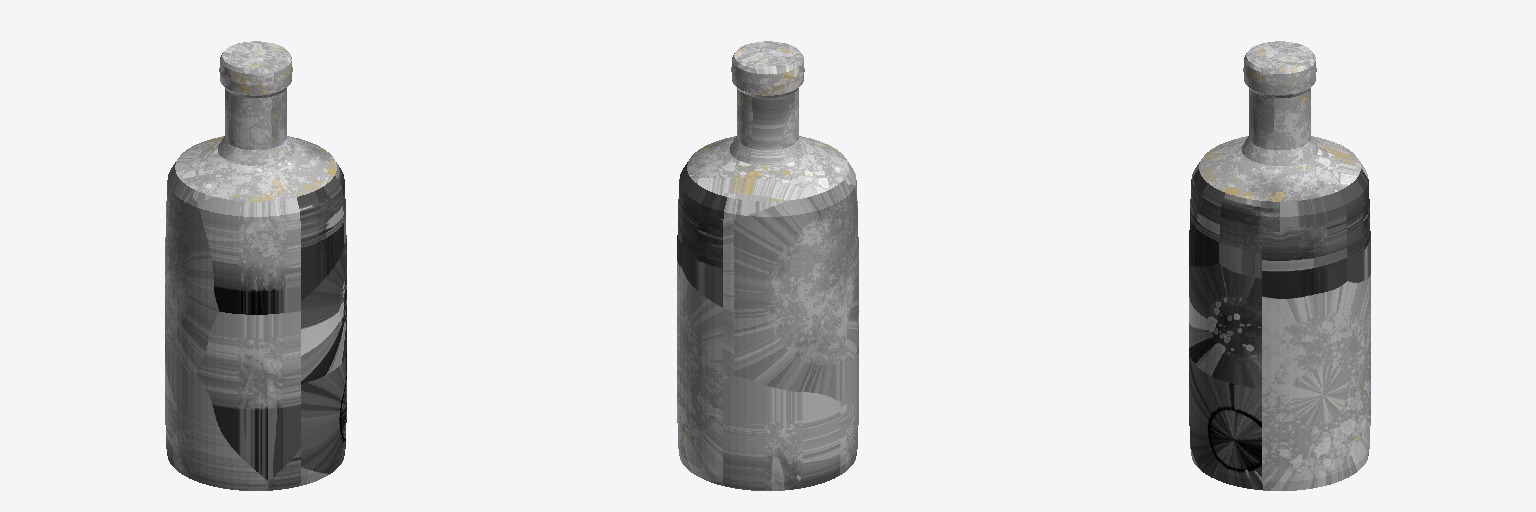
3 views of the same model, side by side, from view 1: azimuth 30°, elevation 25°; view 2: azimuth 150°, elevation 25°; view 3: azimuth 270°, elevation 25° (orthographic).
Parts seen in each view (by area): view 1: Cylinder.028_Cylinder.031; view 2: Cylinder.028_Cylinder.031; view 3: Cylinder.028_Cylinder.031.
Boxes of the visible parts, <box> form: Cylinder.028_Cylinder.031: <box>165,41,346,490</box>; Cylinder.028_Cylinder.031: <box>677,41,858,490</box>; Cylinder.028_Cylinder.031: <box>1189,41,1370,490</box>.
Size of the model in its own units: 0.0727 by 0.1773 by 0.0727.
Materials: 1 (1 with a texture image).